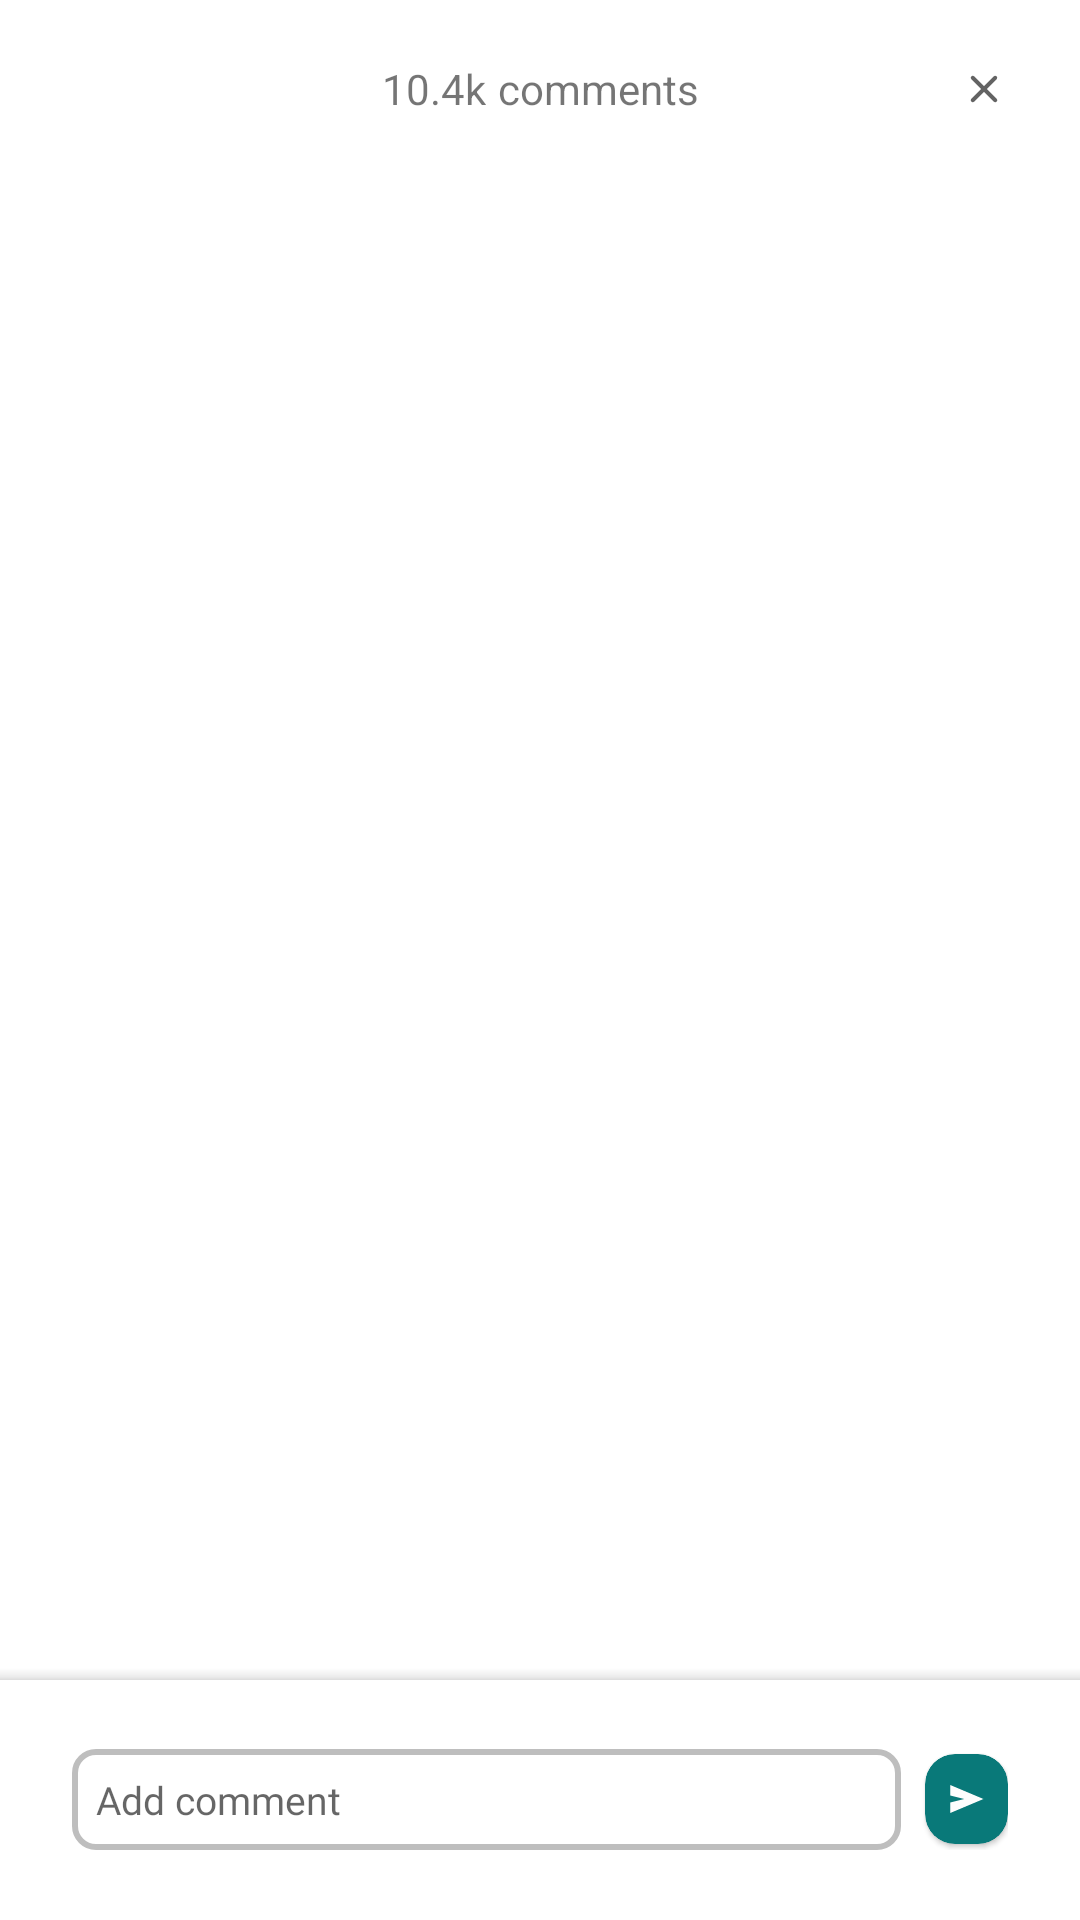

Locate icon controls on the screen. Image size 1080w x 1920h, boxes as (x1, y1, x2, y2).
image for close: (970, 75, 998, 103)
send: (950, 1785, 983, 1813)
